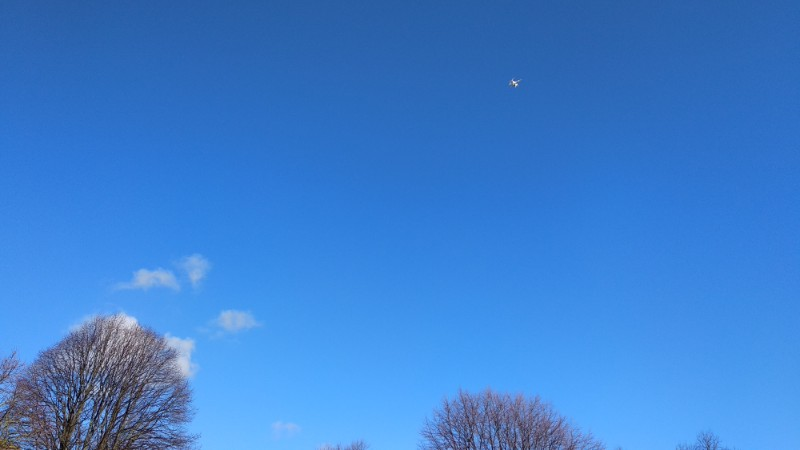drone: (505, 76, 522, 89)
